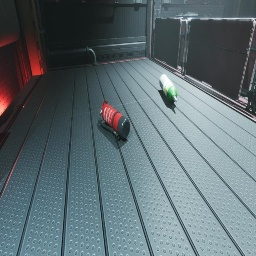0: (159, 74, 177, 103)
FireExtinguisher ]: (99, 99, 130, 139)
